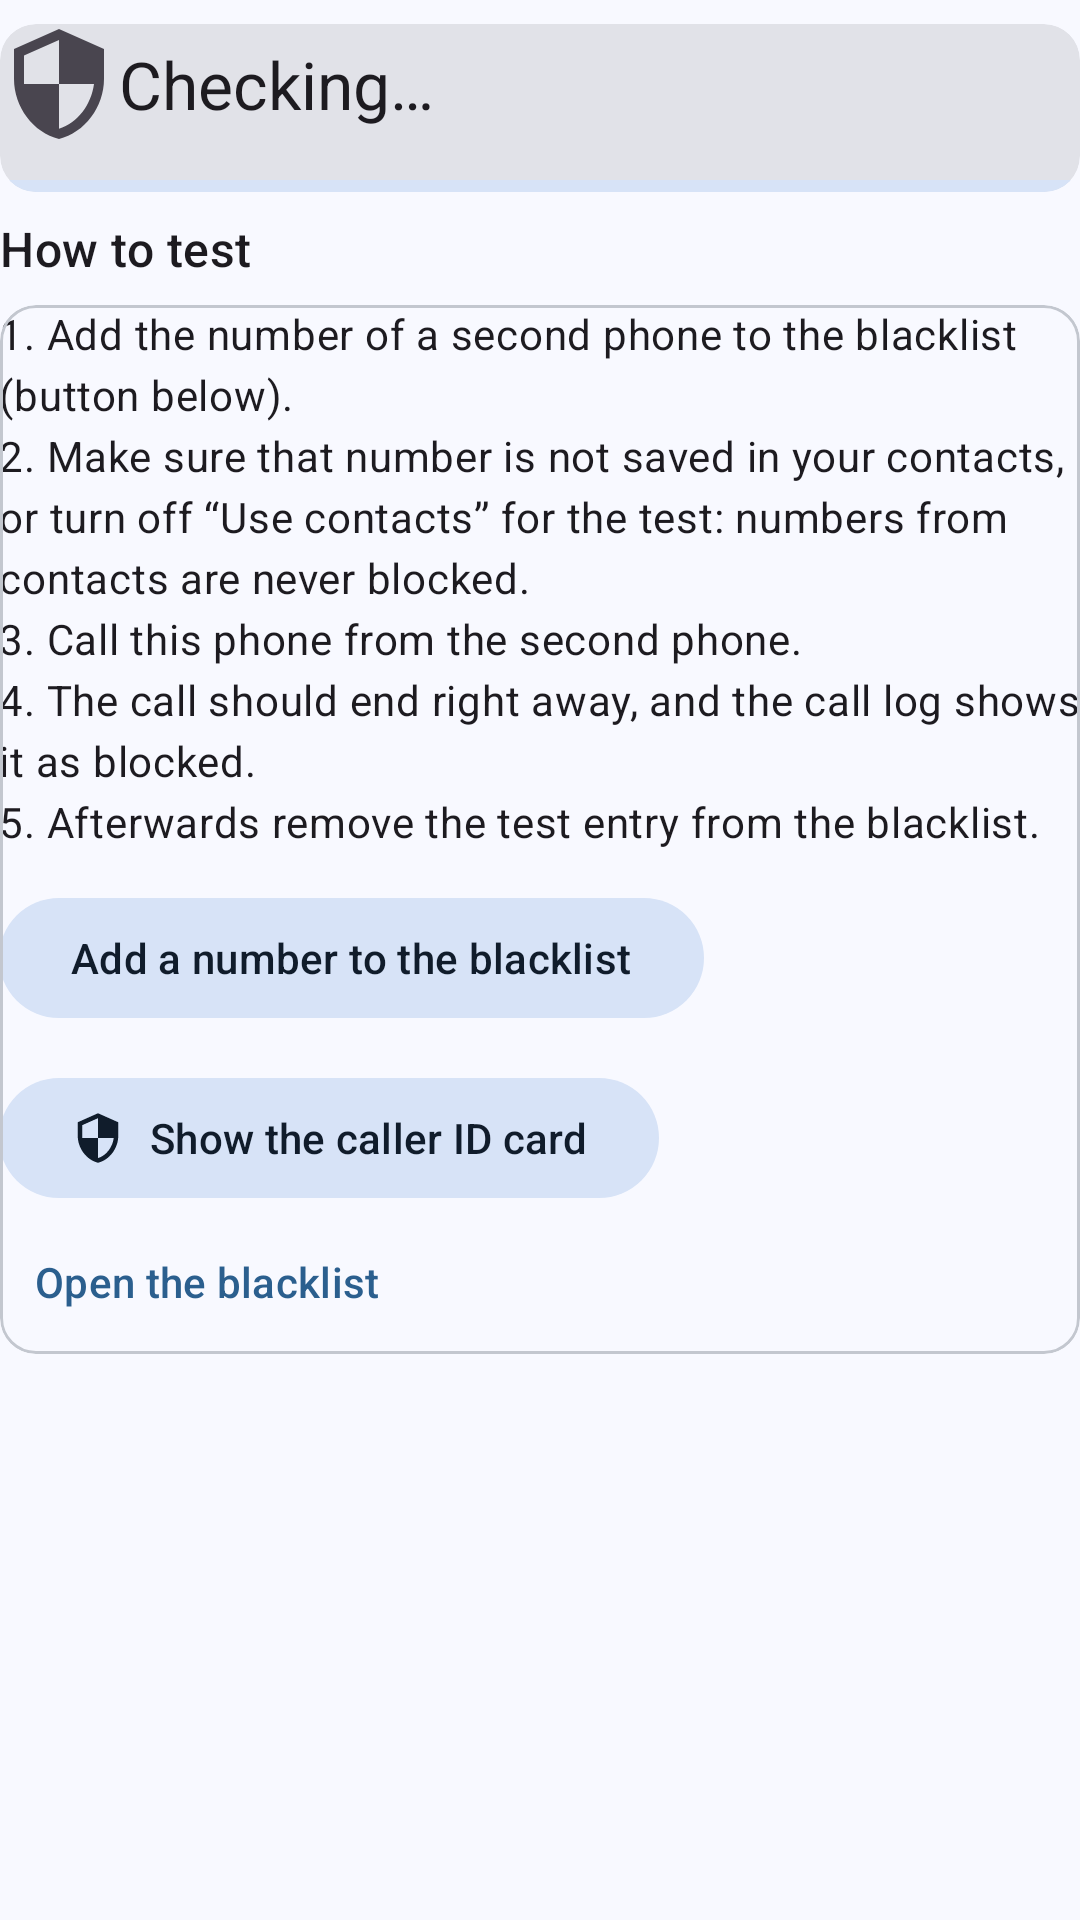

Locate icon controls on the screen. Image size 1080x1920, boxes as (x1, y1, x2, y2).
security: (14, 29, 104, 139)
